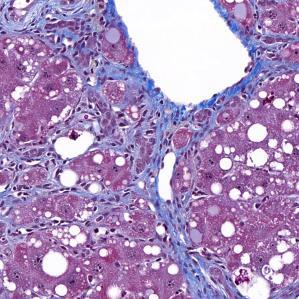fibrosis: (0, 0, 125, 50), (79, 68, 168, 136), (117, 144, 203, 211), (165, 238, 241, 299)
